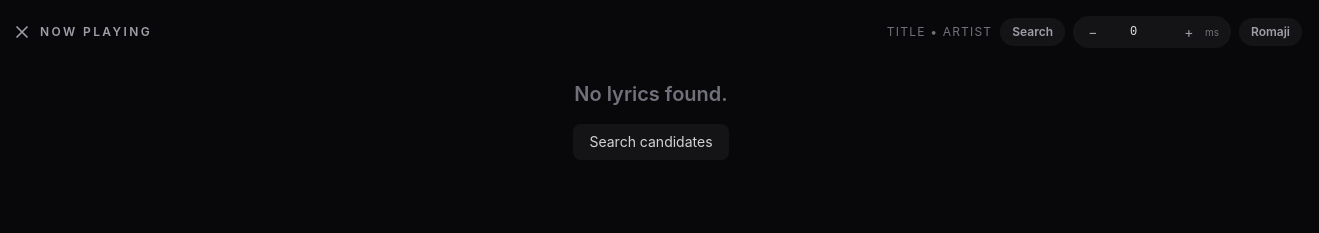
LyricsSheet chapter save flow › omits the picker for songs without chapters
The width and height of the screenshot is (1319, 233).
Click the button "Search candidates": (651, 142) [574, 124, 729, 160]
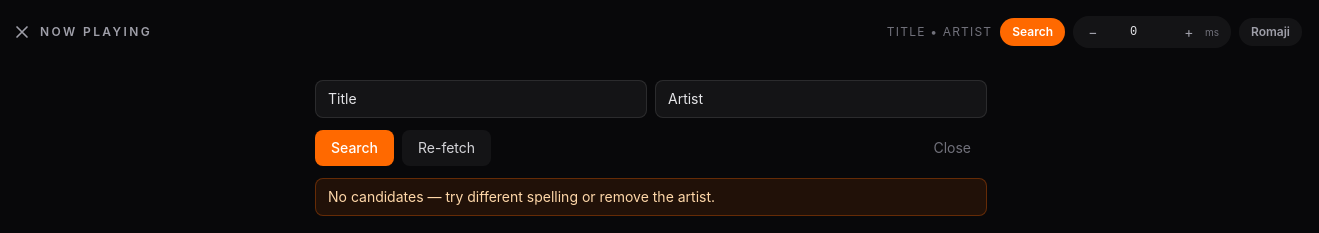
Now the field with placeholder "Track name" is shown, box [315, 80, 647, 118]
